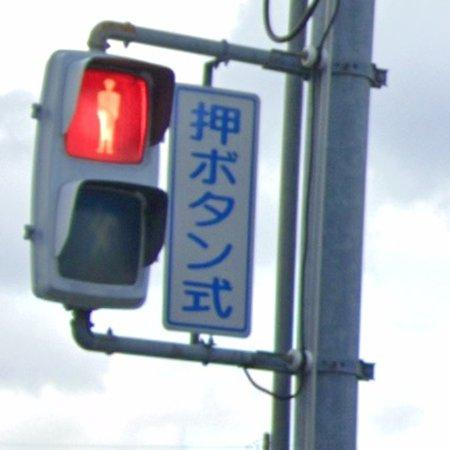traffic lights: (27, 50, 175, 310)
